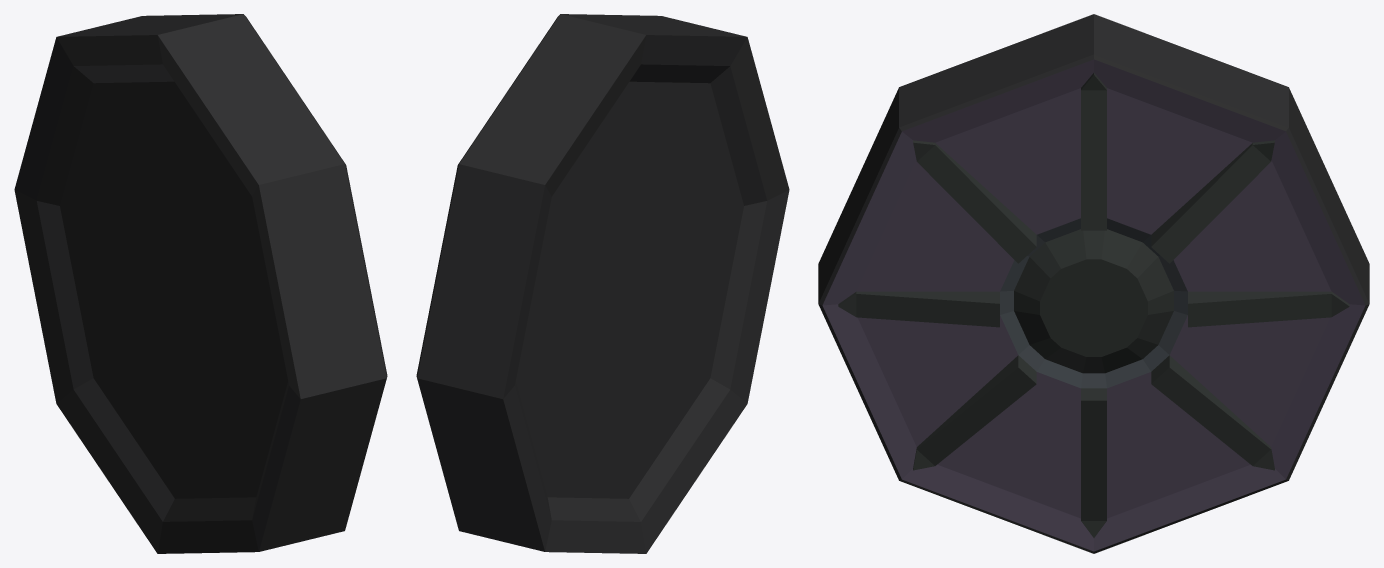
Rendered from AirVent_Cap_01.glb.
The picture shows the model from 3 angles, left to right: view 1: azimuth 30°, elevation 25°; view 2: azimuth 150°, elevation 25°; view 3: azimuth 270°, elevation 25°; orthographic projection. The views are drawn at different scales.
Visible parts, largest first — view 1: AirVent_Cap_01; view 2: AirVent_Cap_01; view 3: AirVent_Cap_01.
Boxes of the visible parts, x1=… form: AirVent_Cap_01: x1=14, y1=14, x2=387, y2=553; AirVent_Cap_01: x1=416, y1=14, x2=789, y2=553; AirVent_Cap_01: x1=818, y1=14, x2=1369, y2=553.
Size of what is drawn, in the model's own units: 0.2607 by 1.17 by 1.17.
Materials: 1 (1 with a texture image).
